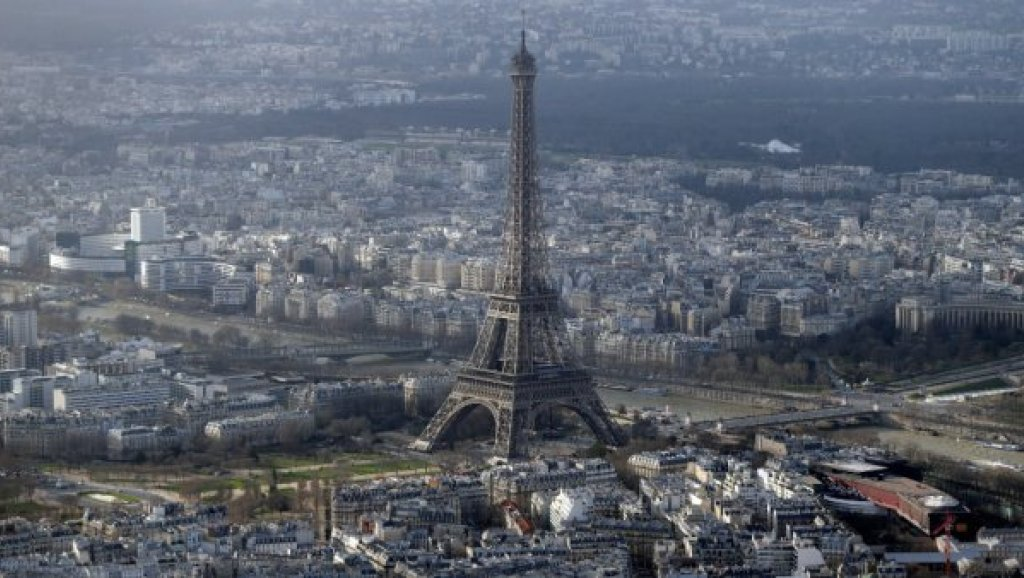eiffel tower: (409, 10, 656, 473)
